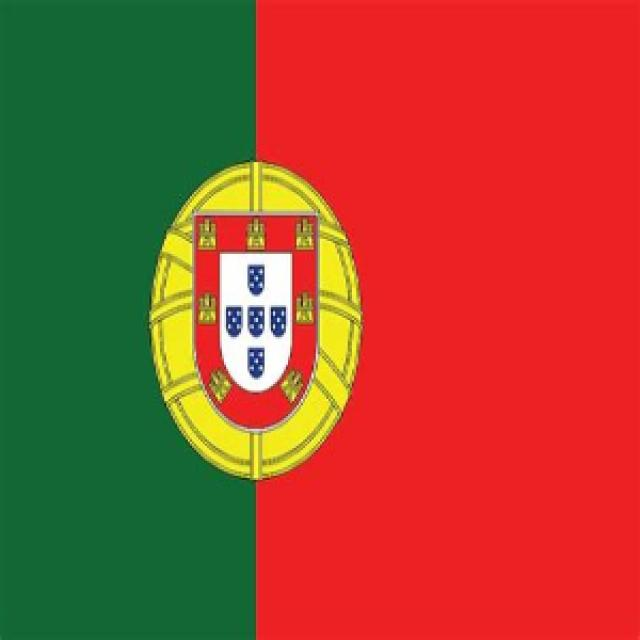portugal: (12, 0, 593, 520)
